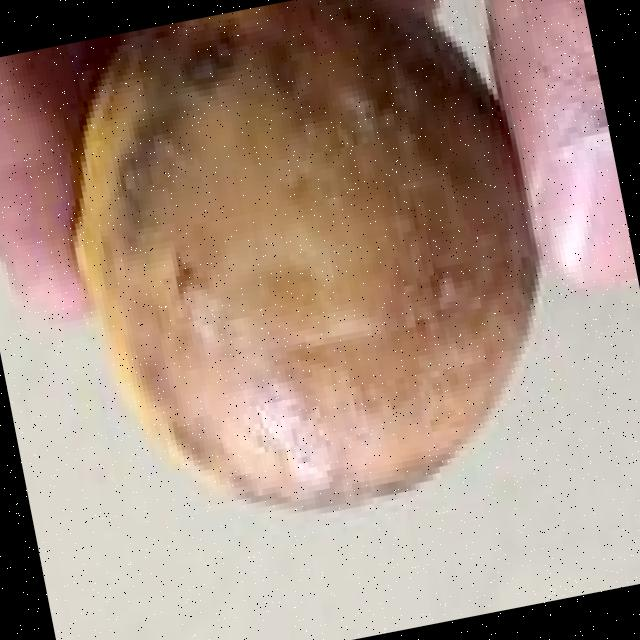Bad_Lime-0-1-day: (71, 0, 548, 515)
